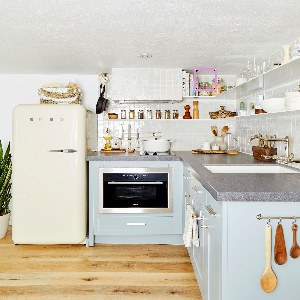square: (192, 66, 220, 93)
